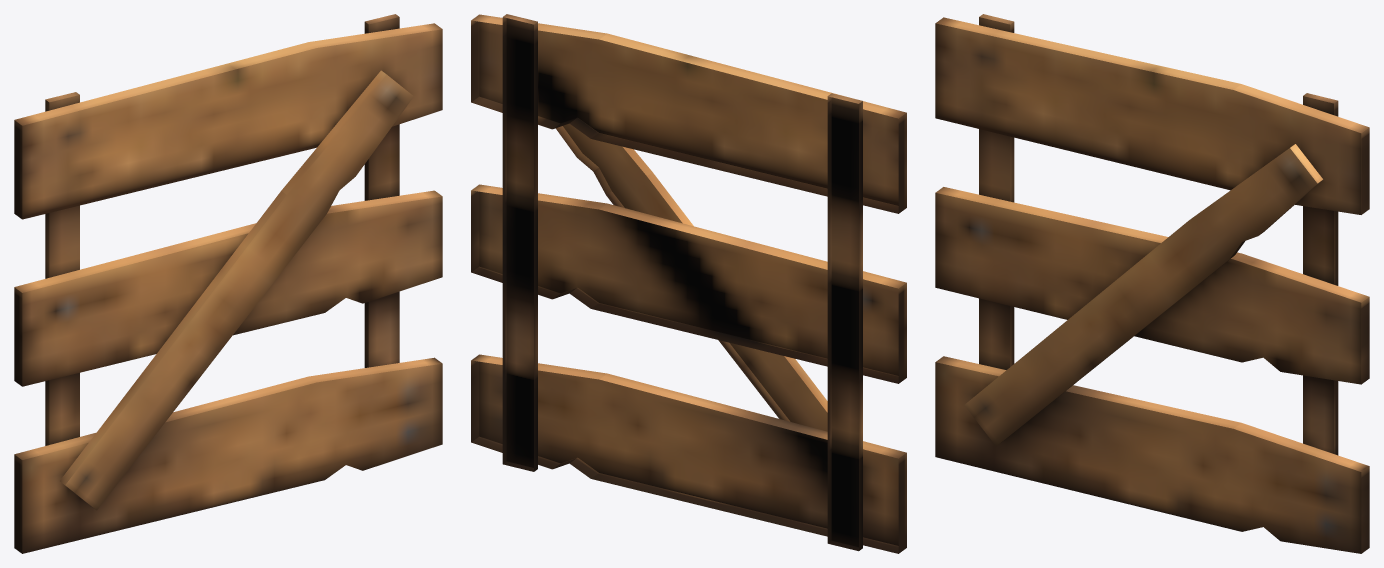
The model's file is DR_BoardedWindow15.fbx.
The picture shows the model from 3 angles, left to right: view 1: azimuth 30°, elevation 25°; view 2: azimuth 150°, elevation 25°; view 3: azimuth 330°, elevation 25°; orthographic projection.
Visible parts, largest first — view 1: DR_BoardedWindow15; view 2: DR_BoardedWindow15; view 3: DR_BoardedWindow15.
Boxes of the visible parts, box(x1,y1,x2,y2) form: DR_BoardedWindow15: box(14, 14, 442, 553); DR_BoardedWindow15: box(471, 14, 906, 553); DR_BoardedWindow15: box(935, 14, 1369, 553).
Bounding box in the file's own units: 1.5 × 0.12 × 1.5.
1 material, 1 textured.
